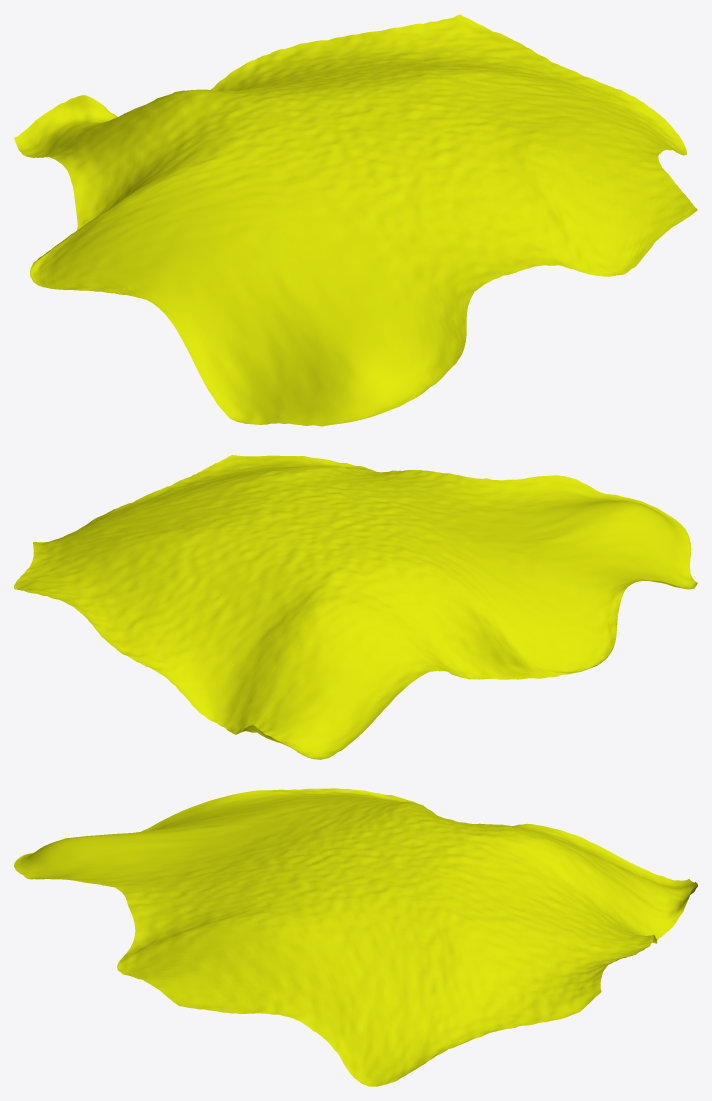
Rendered from beach5.glb.
3 renders of one model, top to bottom at view 1: azimuth 30°, elevation 25°; view 2: azimuth 150°, elevation 25°; view 3: azimuth 270°, elevation 25°, orthographic. The views are drawn at different scales.
Parts seen in each view (by area): view 1: Plane; view 2: Plane; view 3: Plane.
Part boxes in pixels (x1=…): Plane: x1=14, y1=14, x2=697, y2=426; Plane: x1=14, y1=455, x2=697, y2=759; Plane: x1=14, y1=788, x2=697, y2=1086.
Size of the model in its own units: 121 by 21.19 by 126.
